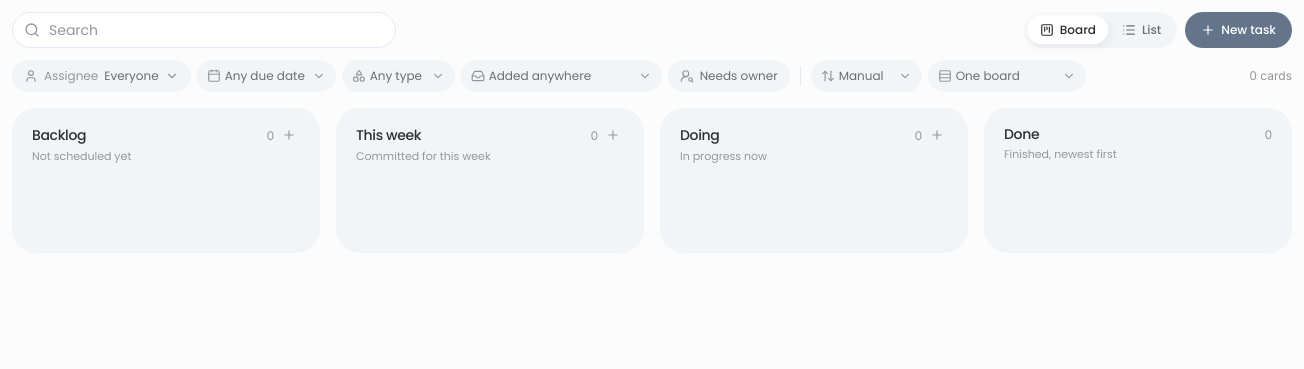
Test case: TaskBoard: whose cards › a card added under Everyone starts unassigned
What coordinates should you click on to do the following:
click the button named "Add a card to Backlog"
I would click on:
 (289, 135)
Its box is x1=278 y1=124 x2=300 y2=146.
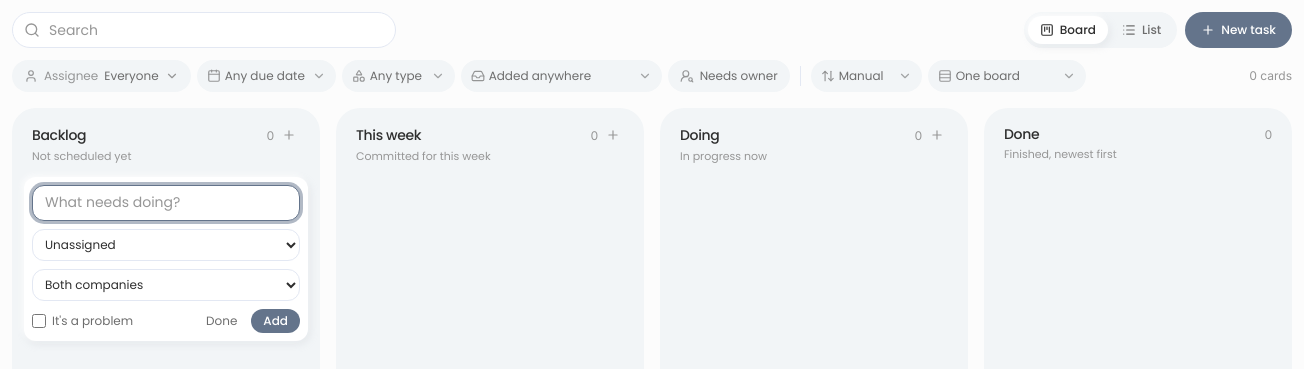
Check: the dropdown named "Assignee" shows "Unassigned", box x1=32 y1=228 x2=300 y2=260
